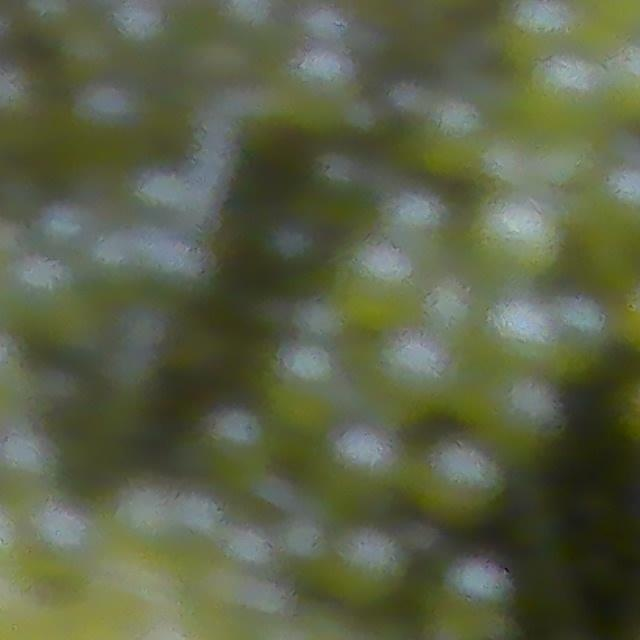SeaGrape: (466, 189, 567, 286), (468, 366, 565, 458), (370, 329, 464, 421), (415, 437, 505, 525), (325, 523, 412, 609), (338, 237, 418, 318)
